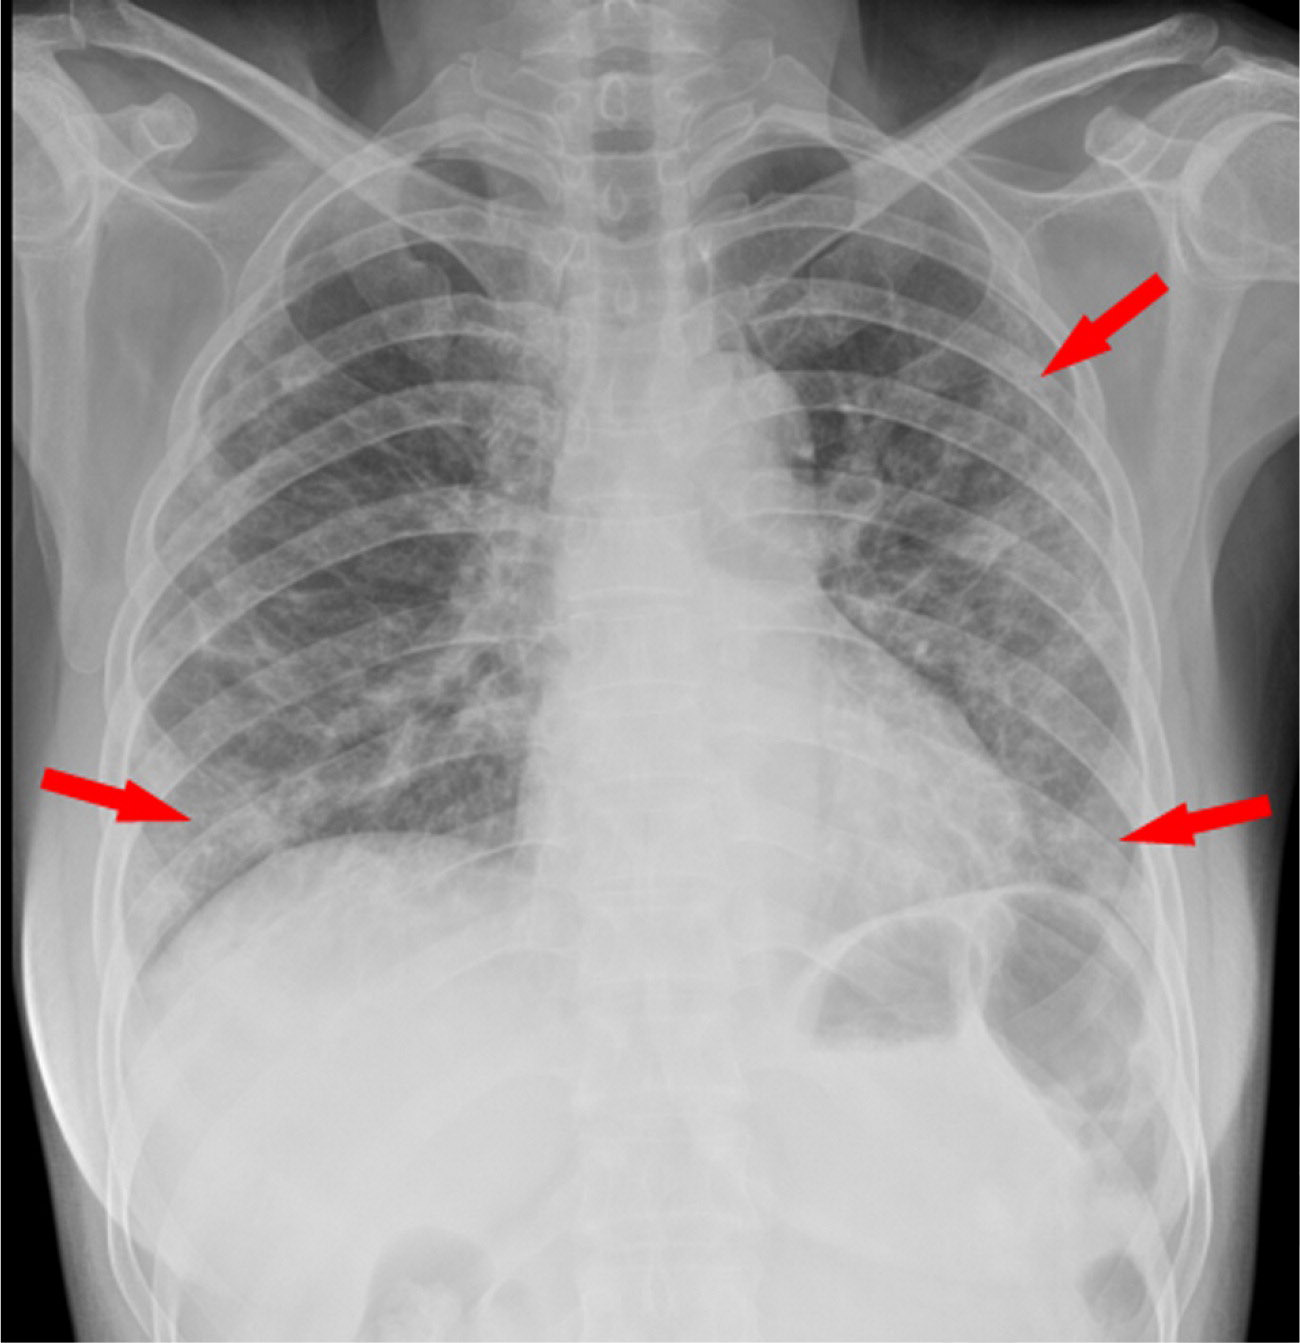Mildw: (127, 118, 574, 945), (686, 139, 1158, 901)
